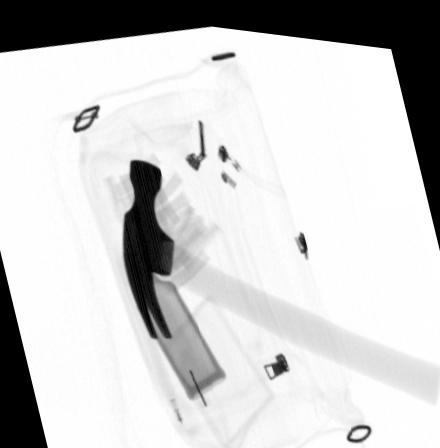Hammer: (121, 154, 440, 395)
